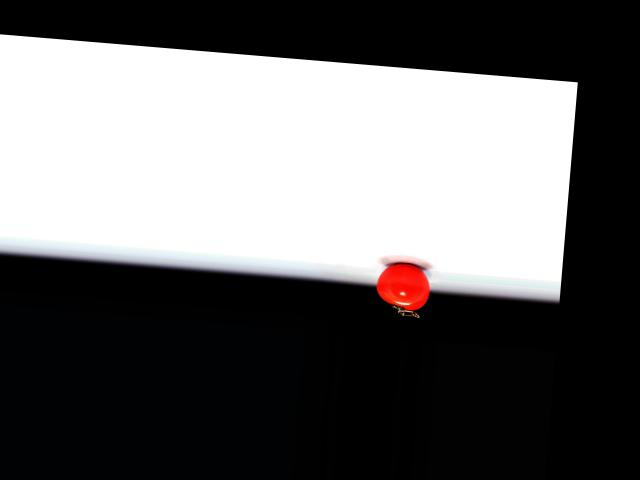tomato: (374, 260, 431, 311)
